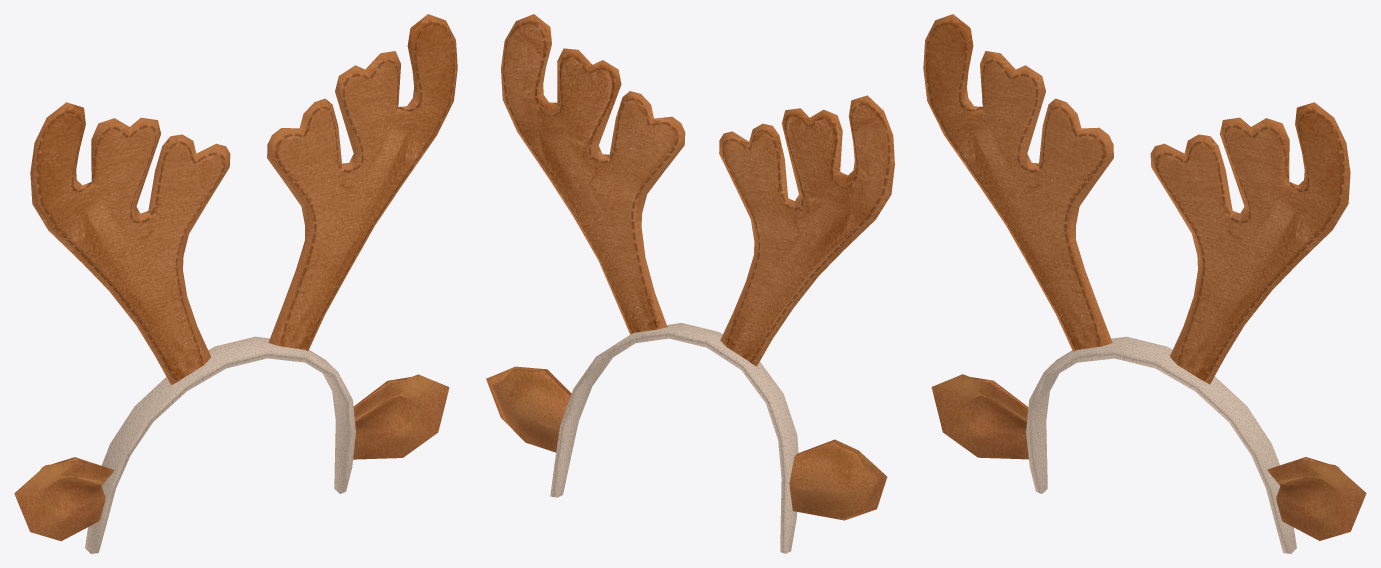
Rendered from Reindeer.glb.
3 views of the same model, side by side, from view 1: azimuth 30°, elevation 25°; view 2: azimuth 150°, elevation 25°; view 3: azimuth 330°, elevation 25° (orthographic). The views are drawn at different scales.
Visible parts, largest first — view 1: horns_lambert1_0; view 2: horns_lambert1_0; view 3: horns_lambert1_0.
Part boxes in pixels (left/top/right/bottom): horns_lambert1_0: left=14, top=14, right=457, bottom=553; horns_lambert1_0: left=486, top=14, right=894, bottom=553; horns_lambert1_0: left=923, top=14, right=1366, bottom=553.
Bounding box in the file's own units: 1.31 × 1.4 × 0.2019.
Materials: 1 (1 with a texture image).
